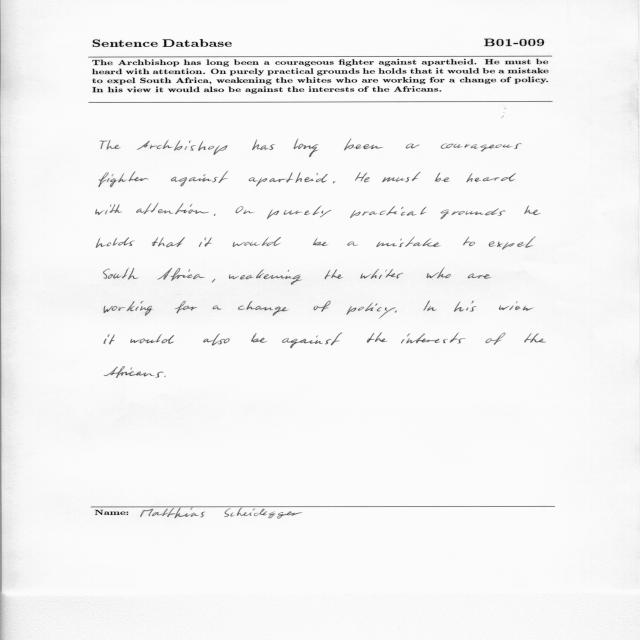word: (137, 140, 227, 155), (229, 269, 301, 285), (249, 172, 328, 186), (350, 206, 426, 218), (267, 205, 332, 219), (283, 333, 343, 348), (171, 171, 228, 186), (136, 204, 209, 215), (99, 171, 148, 187), (347, 303, 396, 319), (238, 301, 288, 316), (104, 301, 153, 316), (441, 143, 522, 152), (441, 209, 506, 220), (105, 366, 164, 378), (401, 333, 465, 344), (377, 237, 441, 247), (157, 268, 205, 281), (489, 237, 536, 250), (232, 237, 281, 247), (344, 139, 383, 151), (294, 139, 319, 157), (466, 173, 516, 182), (130, 334, 174, 344), (360, 269, 403, 279), (96, 237, 135, 248), (382, 172, 421, 182), (104, 268, 139, 279), (203, 333, 230, 346), (499, 301, 533, 311), (152, 237, 185, 247), (96, 204, 122, 215), (427, 268, 451, 279), (175, 301, 197, 313), (252, 139, 275, 150), (454, 301, 476, 312), (486, 333, 506, 345), (525, 333, 547, 343), (100, 140, 120, 150), (367, 333, 387, 343), (313, 301, 331, 312), (324, 270, 343, 280), (524, 205, 541, 215), (251, 333, 267, 343), (235, 206, 254, 214), (355, 172, 370, 182), (435, 172, 449, 182), (199, 237, 212, 247), (424, 301, 437, 311), (313, 238, 328, 246), (468, 274, 491, 279), (104, 334, 115, 344), (463, 237, 475, 246), (406, 144, 419, 149), (347, 241, 358, 246), (212, 306, 222, 310), (212, 279, 215, 283), (333, 181, 335, 183), (214, 214, 216, 216), (395, 311, 397, 313), (164, 376, 166, 377)
